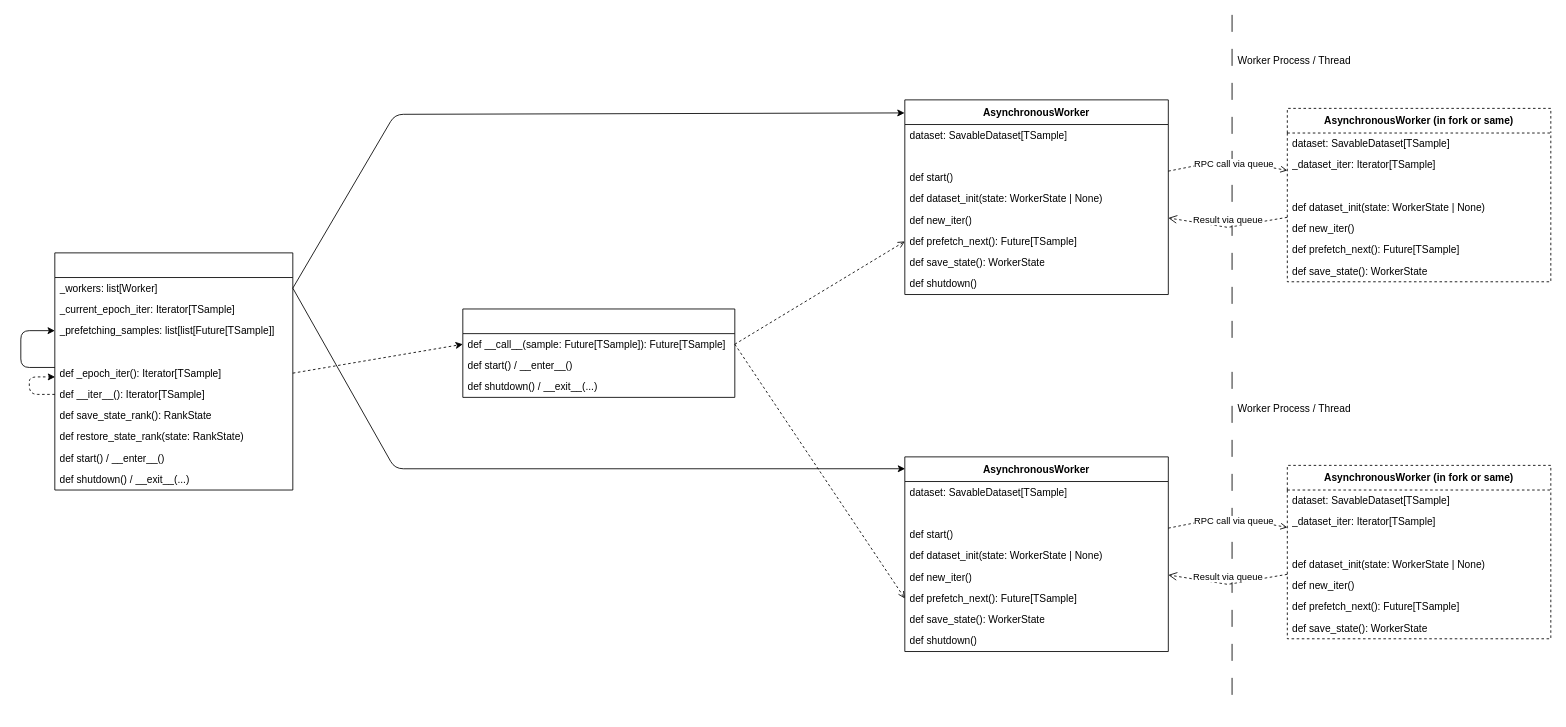
This 1566x727 diagram has some shape labels left out. The box of each missing label's shape, as (x1, y1, x2, y2) in pixels:
DataLoader: (54, 252, 293, 490)
PinMemoryThread: (462, 308, 735, 397)
